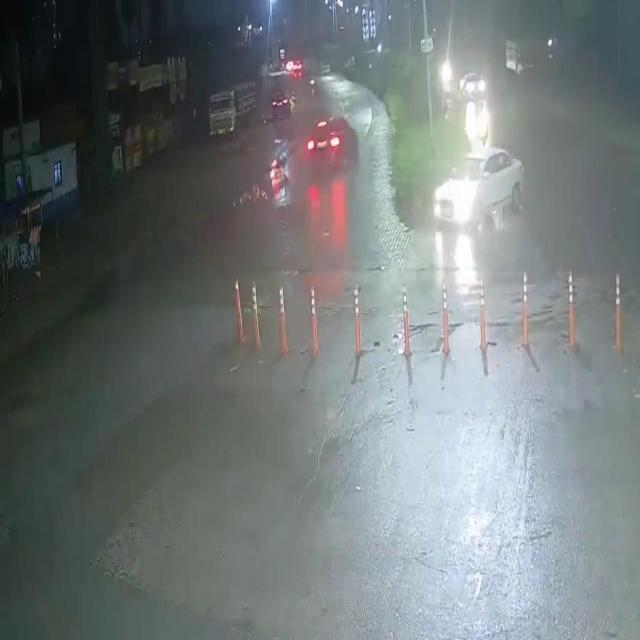accident: (253, 142, 293, 202)
